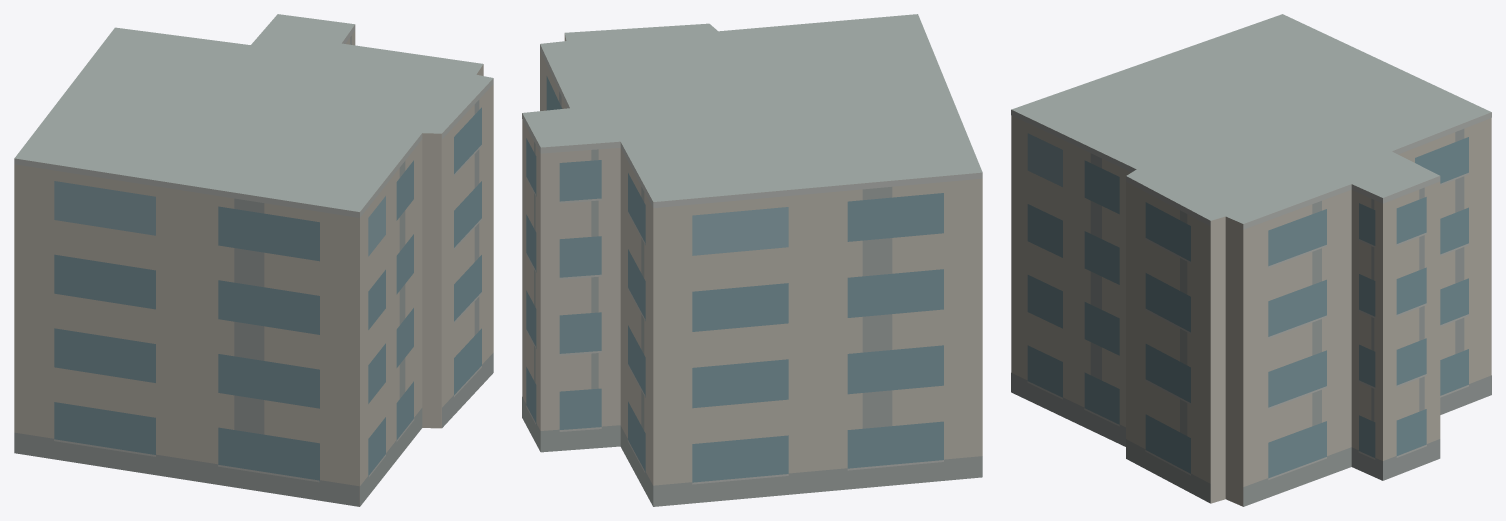
Rendered from survey-upis-32994531.glb.
The picture shows the model from 3 angles, left to right: view 1: azimuth 30°, elevation 25°; view 2: azimuth 150°, elevation 25°; view 3: azimuth 270°, elevation 25°; orthographic projection. The views are drawn at different scales.
Parts seen in each view (by area): view 1: survey-upis-32994531.tmp; view 2: survey-upis-32994531.tmp; view 3: survey-upis-32994531.tmp.
Boxes of the visible parts, x1,y1,x2,y2 form: survey-upis-32994531.tmp: [14, 14, 493, 506]; survey-upis-32994531.tmp: [522, 14, 982, 506]; survey-upis-32994531.tmp: [1011, 14, 1491, 506].
Bounding box in the file's own units: 19.44 × 12.2 × 18.79.
